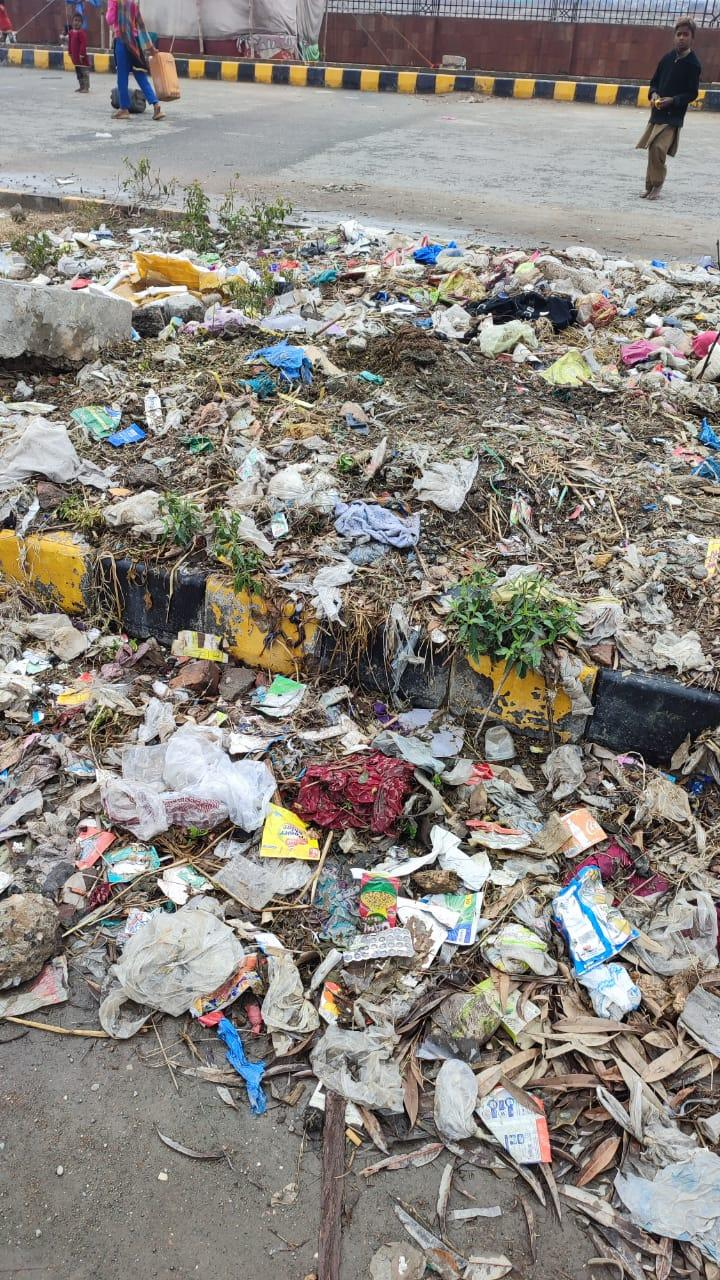garbage: (0, 240, 720, 1219)
